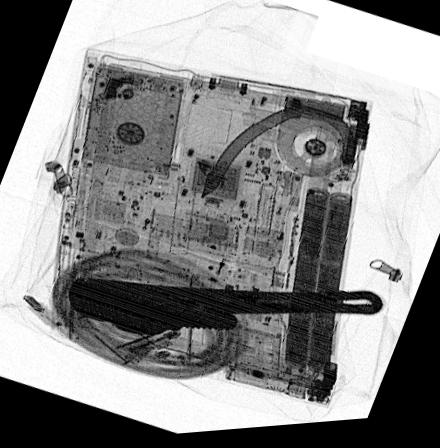Wrench: (65, 275, 382, 340)
